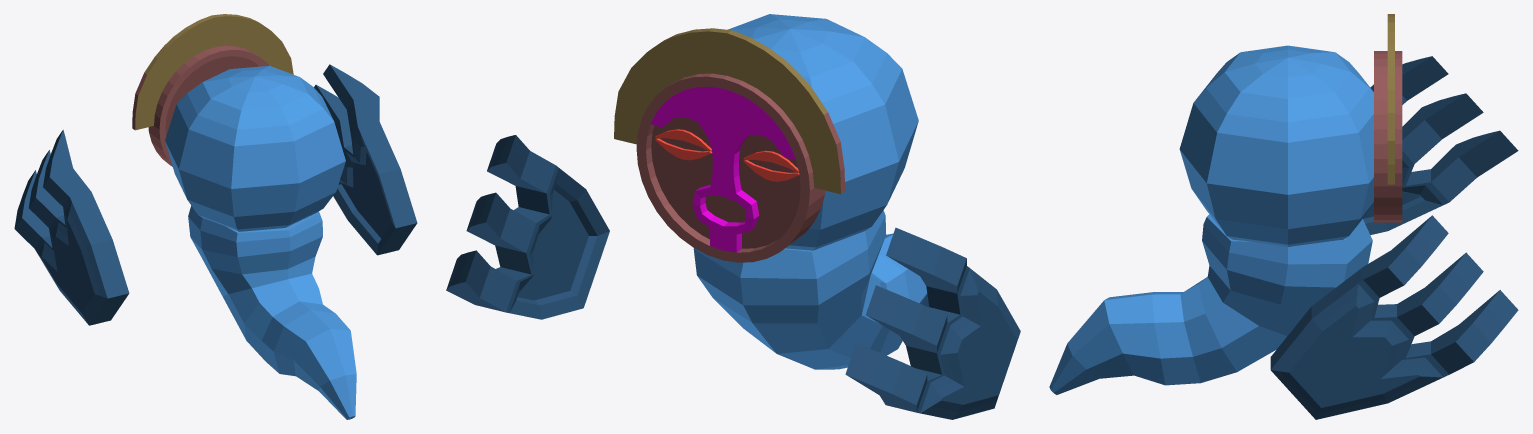
The model's file is SmallGhost.fbx.
3 views of the same model, side by side, from view 1: azimuth 30°, elevation 25°; view 2: azimuth 150°, elevation 25°; view 3: azimuth 270°, elevation 25° (orthographic). The views are drawn at different scales.
Parts seen in each view (by area): view 1: Ghost_Head, Ghost_Tail, GHost_Claw_L, Ghost_Claw_R, Ghost_Mask_Small; view 2: Ghost_Mask_Small, GHost_Claw_L, Ghost_Tail, Ghost_Head, Ghost_Claw_R; view 3: Ghost_Head, Ghost_Tail, Ghost_Claw_R, GHost_Claw_L, Ghost_Mask_Small.
Boxes of the visible parts, left/top/right/bottom form: Ghost_Head: left=165, top=65, right=345, bottom=231; Ghost_Tail: left=188, top=205, right=356, bottom=419; GHost_Claw_L: left=14, top=129, right=129, bottom=325; Ghost_Claw_R: left=314, top=64, right=417, bottom=255; Ghost_Mask_Small: left=132, top=14, right=293, bottom=166; Ghost_Mask_Small: left=614, top=28, right=845, bottom=262; GHost_Claw_L: left=845, top=227, right=1020, bottom=419; Ghost_Tail: left=693, top=210, right=929, bottom=369; Ghost_Head: left=728, top=14, right=918, bottom=250; Ghost_Claw_R: left=446, top=135, right=609, bottom=319; Ghost_Head: left=1179, top=45, right=1373, bottom=246; Ghost_Tail: left=1049, top=214, right=1372, bottom=394; Ghost_Claw_R: left=1270, top=215, right=1518, bottom=419; GHost_Claw_L: left=1363, top=56, right=1518, bottom=234; Ghost_Mask_Small: left=1374, top=14, right=1402, bottom=222.
Bounding box in the file's own units: 176 × 155 × 177.
